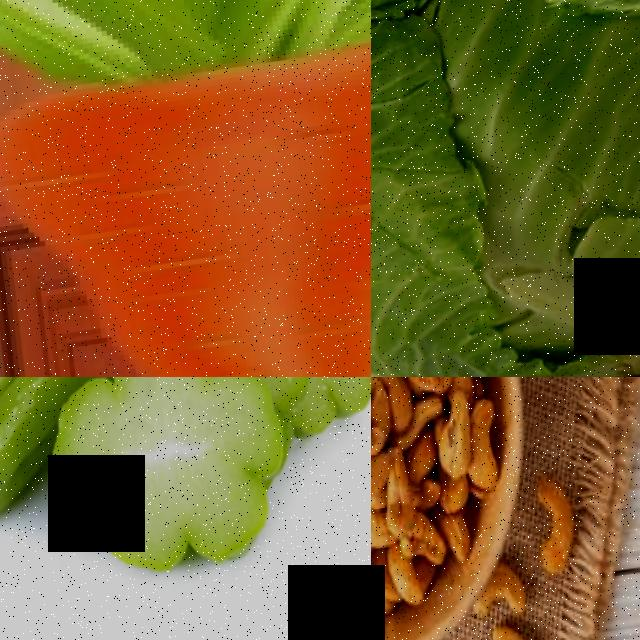cabbage: (371, 0, 640, 377)
carrot: (0, 0, 371, 377)
cashew: (530, 463, 600, 594), (426, 378, 473, 487), (463, 396, 510, 498), (382, 529, 423, 611), (485, 565, 534, 620), (371, 432, 389, 499), (492, 621, 553, 640), (371, 500, 391, 557)
